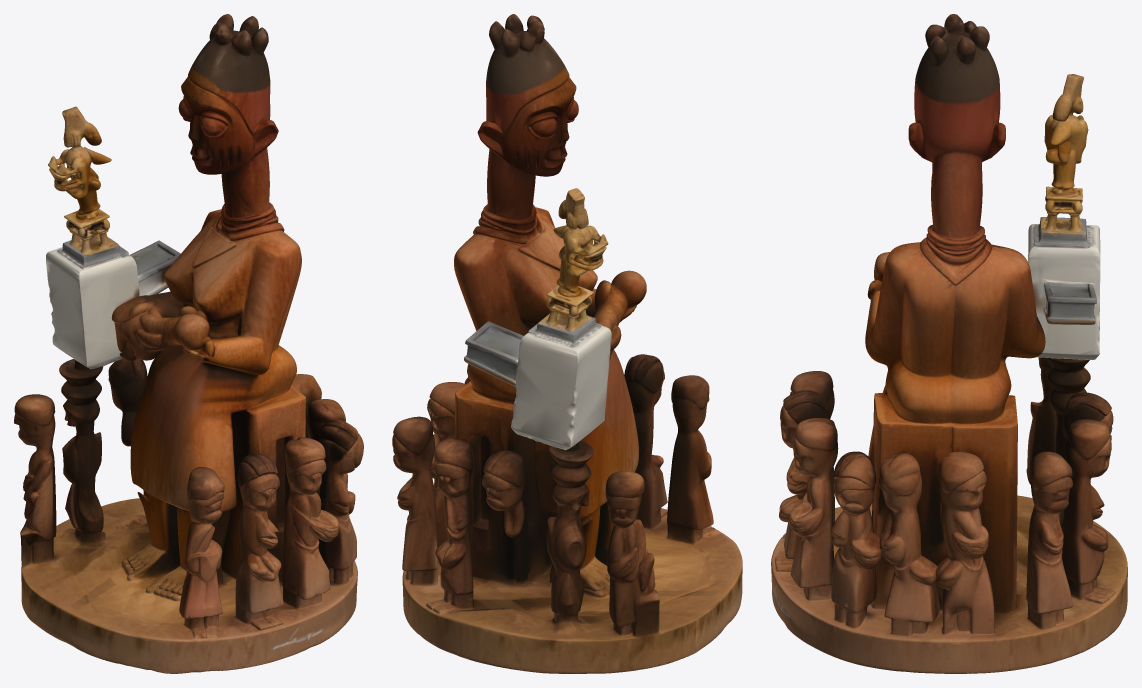
Rendered from femme_fs1.glb.
3 views of the same model, side by side, from view 1: azimuth 30°, elevation 25°; view 2: azimuth 150°, elevation 25°; view 3: azimuth 270°, elevation 25° (orthographic). The views are drawn at different scales.
Parts seen in each view (by area): view 1: material; view 2: material; view 3: material.
Boxes of the visible parts, x1=… form: material: x1=14, y1=14, x2=363, y2=673; material: x1=392, y1=14, x2=742, y2=673; material: x1=771, y1=14, x2=1127, y2=673.
Bounding box in the file's own units: 0.5499 × 1.05 × 0.5632.
Materials: 1 (1 with a texture image).
